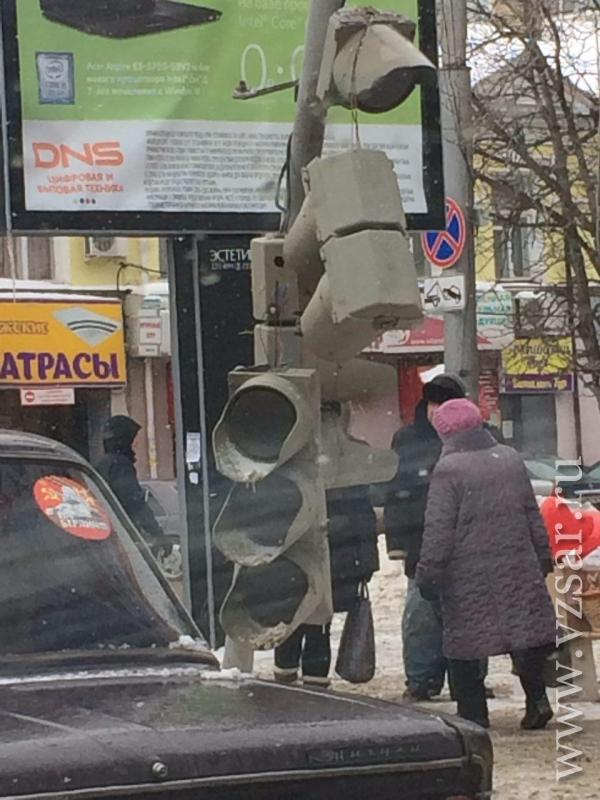obstructed_road_sign: (422, 198, 465, 268), (422, 275, 463, 313)
off traffic light: (212, 369, 331, 647), (285, 149, 420, 353), (317, 8, 435, 113)
